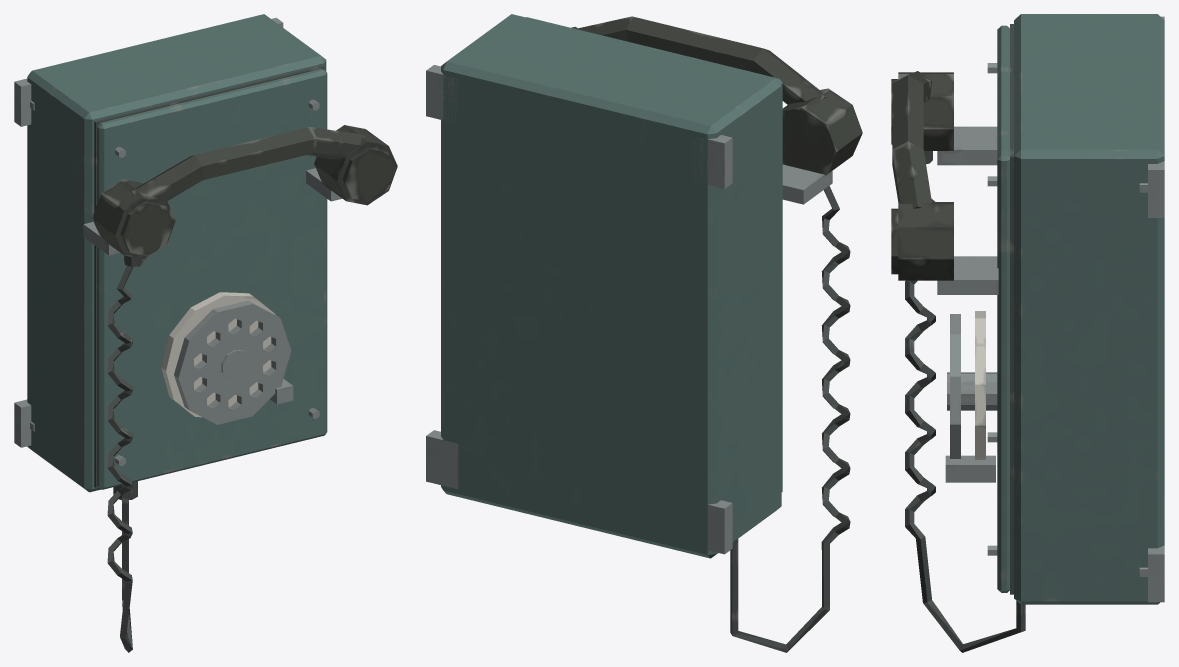
The model's file is bunker_wall_phone_mounted.glb.
3 renders of one model, left to right at view 1: azimuth 30°, elevation 25°; view 2: azimuth 150°, elevation 25°; view 3: azimuth 270°, elevation 25°, orthographic. The views are drawn at different scales.
Parts seen in each view (by area): view 1: WallPhone; view 2: WallPhone; view 3: WallPhone.
Part boxes in pixels (<box>): WallPhone: <box>14,14,397,652</box>; WallPhone: <box>426,14,862,652</box>; WallPhone: <box>891,14,1164,652</box>.
Size of the model in its own units: 0.28 by 0.4985 by 0.196.
Materials: 1 (1 with a texture image).
